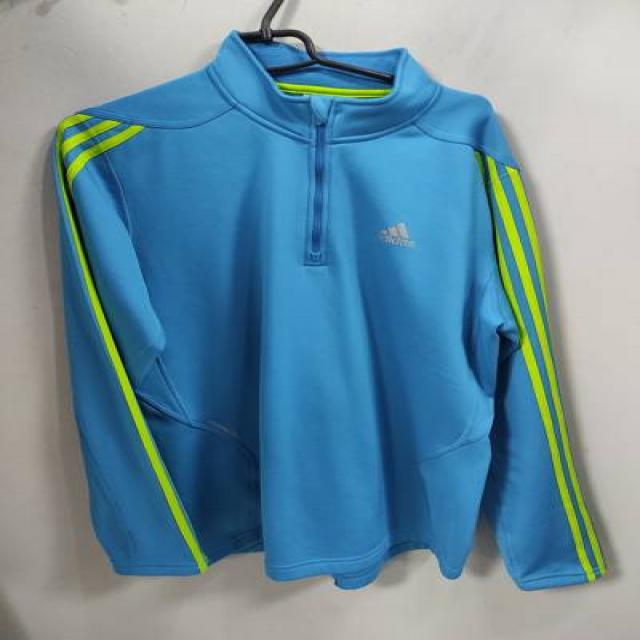Clothes -Biodegradable-: (51, 28, 606, 593)
